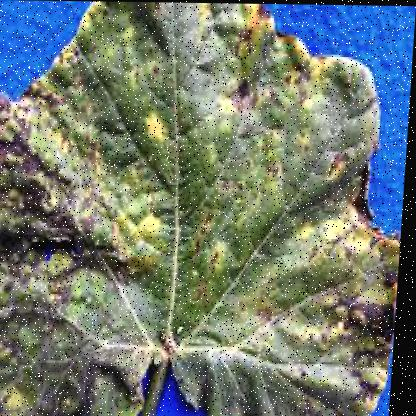Anthracnose: (78, 54, 327, 346), (0, 50, 140, 415), (193, 205, 405, 415)
